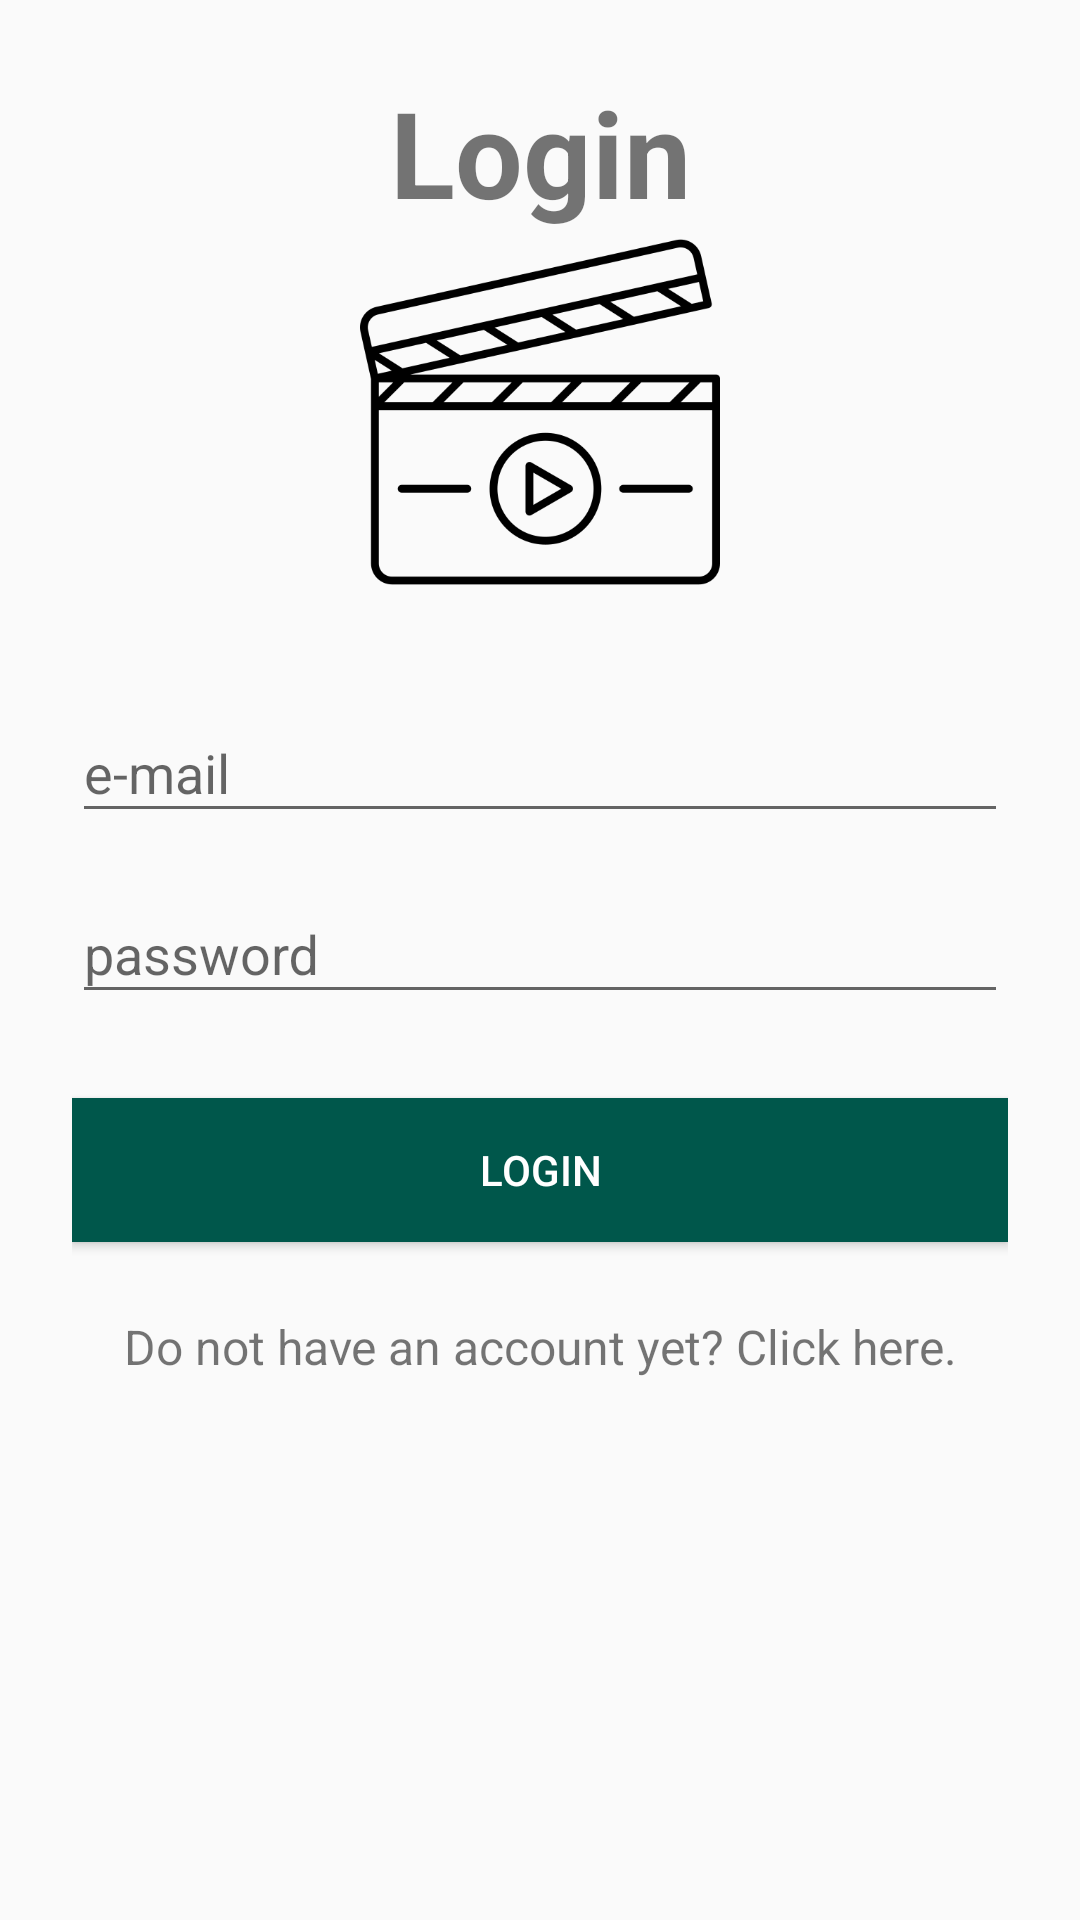

Point at icon controls on the screen. Image size 1080px×1920px, points as point (x, y).
clapperboard: point (540, 412)
